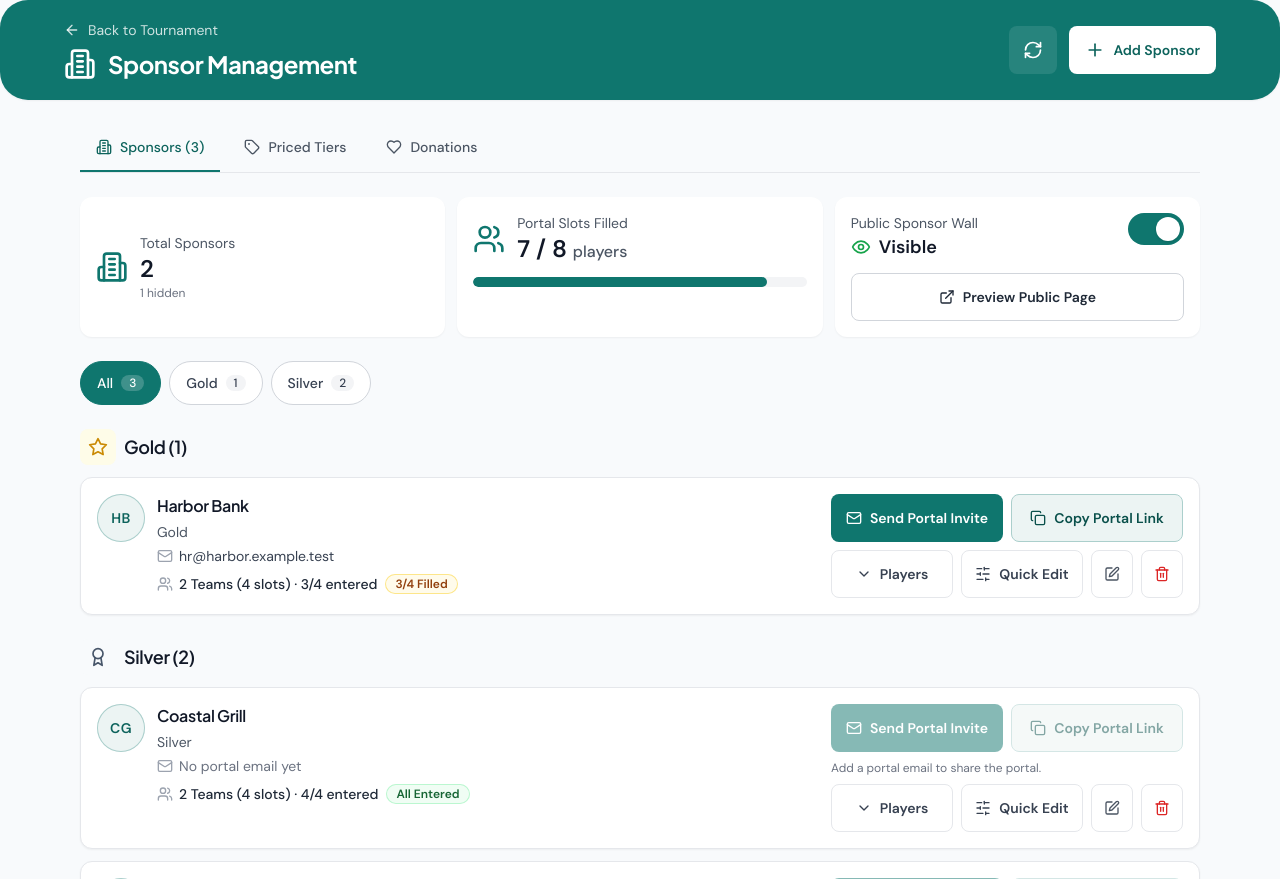
it: SponsorManagementPage › toggles the public sponsor wall through the tournament API
What coordinates should you click on to do the following:
click the switch named "Show sponsors on the public event page"
I would click on:
 (1156, 229)
Its box is [1128,213,1184,245].
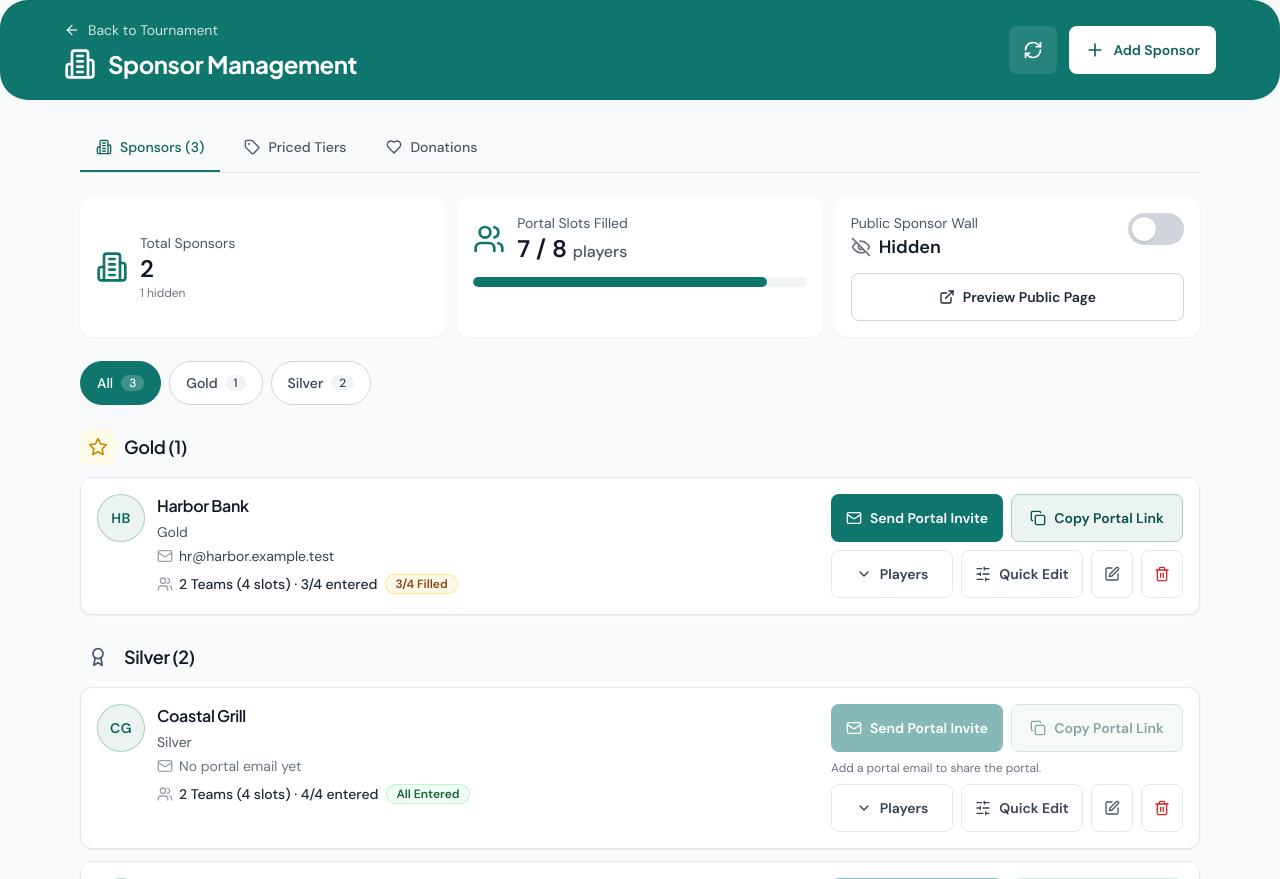
Expected: the switch named "Show sponsors on the public event page" is not checked, [1128,213,1184,245]
